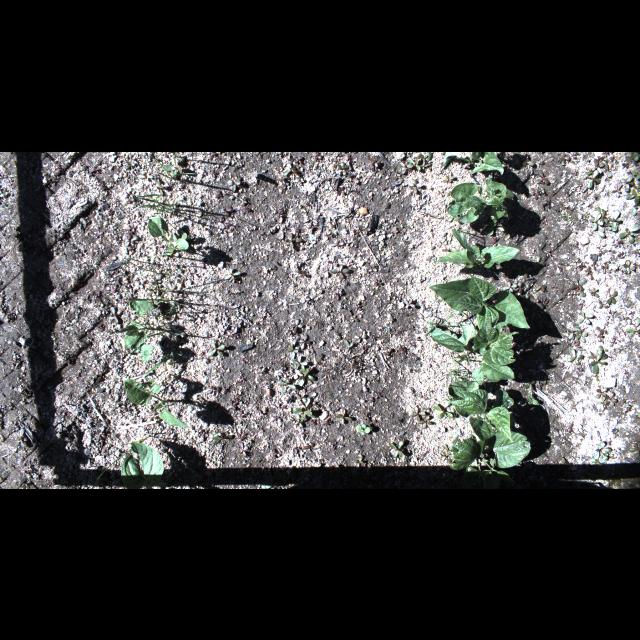crop: (424, 320, 520, 386), (429, 273, 529, 333), (450, 428, 530, 488), (448, 378, 514, 442), (122, 377, 190, 428), (434, 228, 520, 268), (118, 299, 172, 361), (446, 178, 506, 222), (122, 444, 166, 488), (148, 216, 188, 254), (440, 152, 504, 174)
weed: (91, 436, 150, 488), (132, 187, 188, 221), (120, 254, 167, 278), (141, 354, 175, 380), (154, 160, 198, 178), (490, 188, 514, 218), (446, 358, 468, 388), (444, 312, 476, 332), (293, 363, 315, 387), (151, 266, 171, 292), (588, 351, 606, 373), (142, 152, 162, 170), (164, 158, 182, 178), (432, 402, 454, 418), (569, 278, 587, 296), (212, 432, 234, 446), (586, 168, 600, 190), (285, 232, 303, 248), (388, 440, 404, 458), (566, 348, 584, 364), (588, 212, 604, 230), (172, 226, 192, 240), (486, 214, 498, 236), (15, 427, 28, 447), (619, 225, 639, 238), (409, 406, 425, 422), (207, 343, 225, 357), (277, 378, 295, 392), (331, 264, 349, 278), (621, 172, 635, 190), (558, 456, 576, 470), (609, 209, 621, 229), (628, 316, 640, 336), (109, 306, 123, 322), (124, 230, 138, 246), (282, 162, 298, 176), (528, 295, 544, 309), (600, 216, 614, 232), (152, 178, 164, 196), (294, 408, 312, 420), (594, 440, 606, 458), (227, 176, 241, 190), (289, 319, 303, 333), (407, 178, 421, 192), (406, 156, 420, 170), (522, 152, 536, 166), (536, 170, 550, 184), (521, 376, 535, 390), (591, 158, 605, 172), (578, 310, 592, 324), (604, 392, 618, 406), (121, 296, 169, 300), (292, 356, 308, 368), (355, 423, 371, 435), (416, 416, 432, 428), (336, 414, 354, 424), (589, 457, 607, 467), (169, 151, 187, 161), (164, 301, 178, 313), (503, 280, 517, 292), (622, 260, 634, 274), (606, 291, 618, 305), (576, 328, 588, 342), (132, 313, 172, 317), (224, 268, 240, 278), (288, 342, 298, 358), (354, 454, 364, 470), (632, 194, 640, 214), (568, 324, 578, 340), (597, 396, 607, 412), (594, 387, 608, 398), (124, 158, 136, 170), (358, 221, 370, 233), (443, 444, 455, 456), (519, 293, 531, 305), (527, 393, 539, 405), (588, 286, 600, 298), (238, 442, 248, 456), (232, 318, 242, 332), (300, 335, 310, 349), (344, 339, 354, 353), (556, 155, 570, 165), (625, 189, 639, 199), (629, 444, 639, 458), (569, 451, 579, 465), (598, 345, 608, 359), (598, 205, 606, 222), (338, 162, 349, 174), (531, 253, 543, 264), (603, 160, 611, 176), (423, 152, 432, 166), (168, 358, 180, 368), (300, 397, 312, 407), (418, 152, 428, 164), (598, 298, 610, 308), (596, 325, 608, 335), (586, 266, 594, 280), (152, 279, 162, 289), (148, 284, 158, 294), (296, 392, 306, 402), (405, 298, 415, 308), (600, 263, 610, 273), (598, 450, 608, 460), (531, 187, 539, 199), (534, 284, 546, 292), (612, 184, 620, 196), (573, 256, 581, 268), (332, 240, 344, 248), (334, 287, 342, 299), (583, 170, 595, 178), (604, 478, 614, 487), (142, 152, 156, 158), (600, 446, 614, 452), (174, 266, 182, 276), (152, 290, 162, 298), (295, 418, 303, 428), (288, 416, 296, 426), (514, 282, 522, 292), (448, 456, 456, 466), (632, 169, 640, 179), (598, 248, 608, 256), (594, 332, 602, 342), (174, 328, 186, 334), (138, 174, 154, 178), (156, 266, 162, 276), (522, 272, 528, 282), (598, 227, 604, 237), (614, 428, 620, 438), (625, 328, 639, 332), (443, 175, 452, 181), (175, 350, 183, 356), (632, 152, 638, 160), (628, 234, 634, 242), (578, 300, 584, 308), (609, 338, 615, 346)
